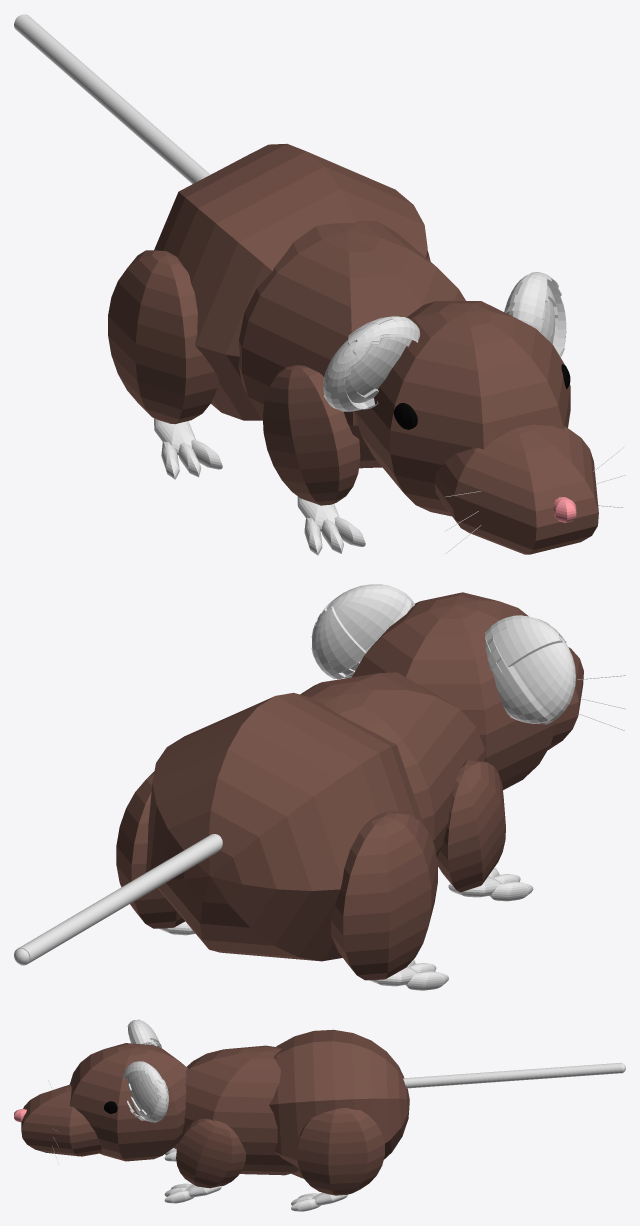
The model's file is RatSwarmed.fbx.
The picture shows the model from 3 angles, top to bottom: view 1: azimuth 30°, elevation 25°; view 2: azimuth 150°, elevation 25°; view 3: azimuth 270°, elevation 25°; orthographic projection. The views are drawn at different scales.
Visible parts, largest first — view 1: Sphere.004, Sphere, Sphere.001, Sphere.003, Sphere.010, Sphere.012, Sphere.005, Cylinder, Sphere.002, Sphere.022; view 2: Sphere.004, Sphere, Sphere.010, Sphere.001, Sphere.005, Sphere.012, Sphere.002, Cylinder, Sphere.009, Sphere.003, Sphere.018, Sphere.025; view 3: Sphere.004, Sphere, Sphere.001, Sphere.009, Sphere.003, Sphere.011, Cylinder, Sphere.002, Sphere.005, Sphere.029, Sphere.014.
Part boxes in pixels (x1,y1,x2,y2): Sphere.004: (154,143,427,420); Sphere: (354,301,570,516); Sphere.001: (238,221,465,468); Sphere.003: (434,424,598,554); Sphere.010: (108,250,218,424); Sphere.012: (262,365,360,505); Sphere.005: (323,316,419,411); Cylinder: (14,14,210,183); Sphere.002: (504,272,566,357); Sphere.022: (154,418,195,455); Sphere.004: (145,692,423,961); Sphere: (352,592,556,790); Sphere.010: (331,811,437,980); Sphere.001: (300,672,484,857); Sphere.005: (485,615,575,724); Sphere.012: (437,759,505,892); Sphere.002: (311,584,414,679); Cylinder: (14,834,222,965); Sphere.009: (116,771,184,928); Sphere.003: (548,647,583,749); Sphere.018: (489,881,533,901); Sphere.025: (405,971,448,990); Sphere.004: (269,1029,409,1178); Sphere: (69,1043,188,1161); Sphere.001: (174,1045,298,1175); Sphere.009: (297,1108,384,1195); Sphere.003: (21,1084,102,1156); Sphere.011: (176,1118,245,1188); Cylinder: (403,1062,622,1088); Sphere.002: (122,1061,168,1122); Sphere.005: (127,1019,161,1048); Sphere.029: (312,1192,347,1205); Sphere.014: (185,1184,221,1197).
Size of the model in its own units: 383 by 332 by 1248.
